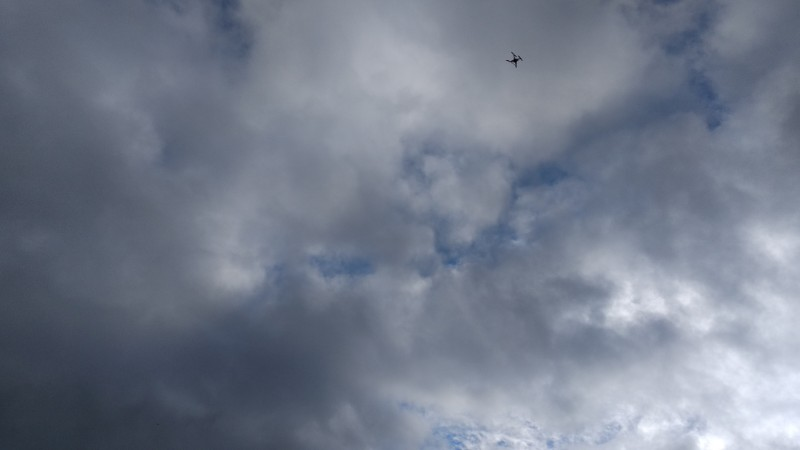drone: (506, 51, 523, 68)
